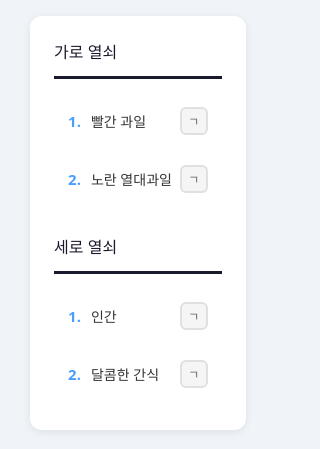
it: HintPanel › 상호작용 › 가로 초성 버튼 재클릭 시 초성이 숨겨짐
// 첫 번째 클릭 - 초성 표시
Click the button titled "초성 힌트" next to "빨간 과일": click(194, 121) [180, 107, 208, 135]
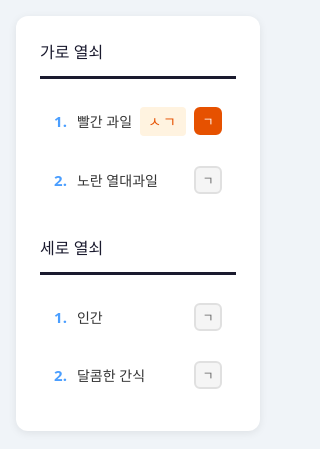
Expected: the text "ㅅㄱ" is shown, [140, 106, 186, 136]
// 두 번째 클릭 - 초성 숨김
Click the button titled "초성 힌트" next to "ㅅㄱ": click(208, 121) [194, 107, 222, 135]
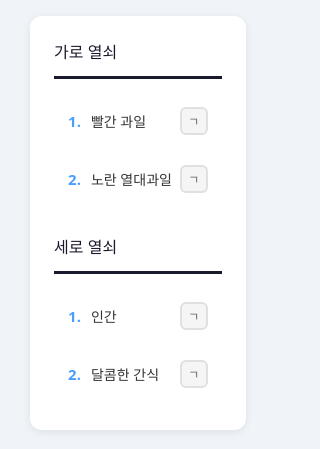
Expected: the text "ㅅㄱ" is gone
